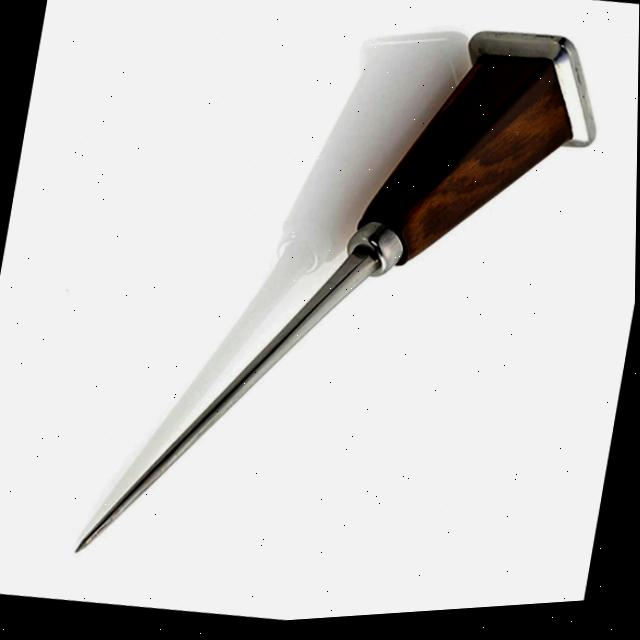ice pick: (73, 0, 614, 626)
